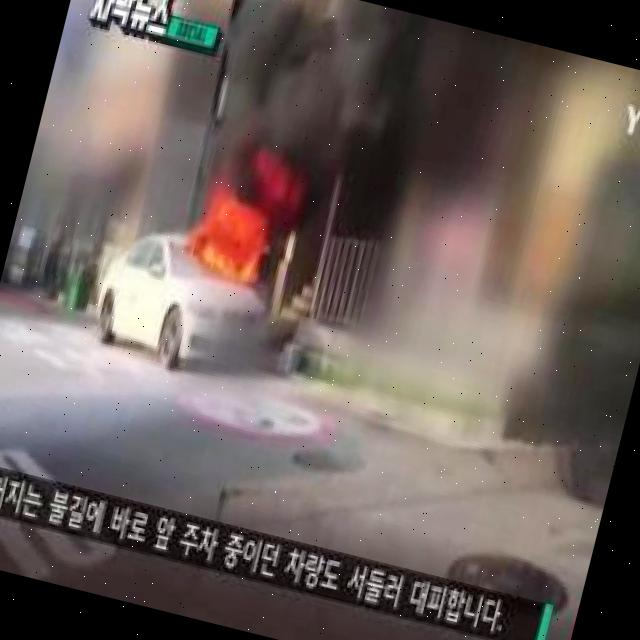fire: (180, 183, 287, 291)
